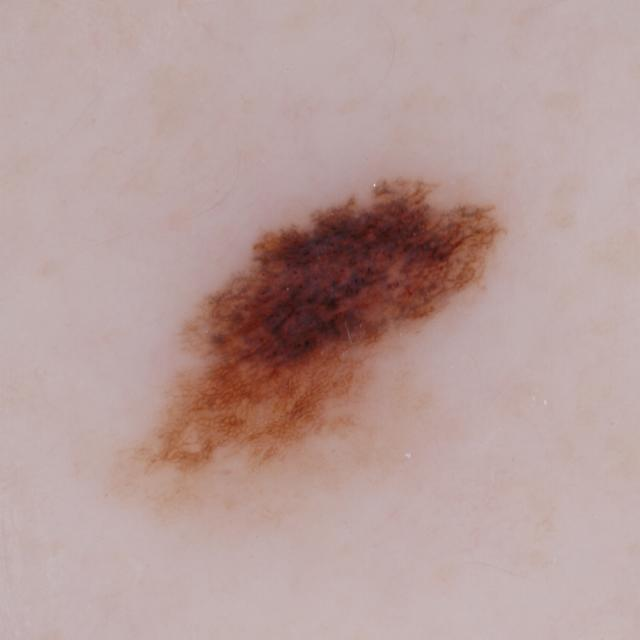Benign: (130, 170, 507, 490)
